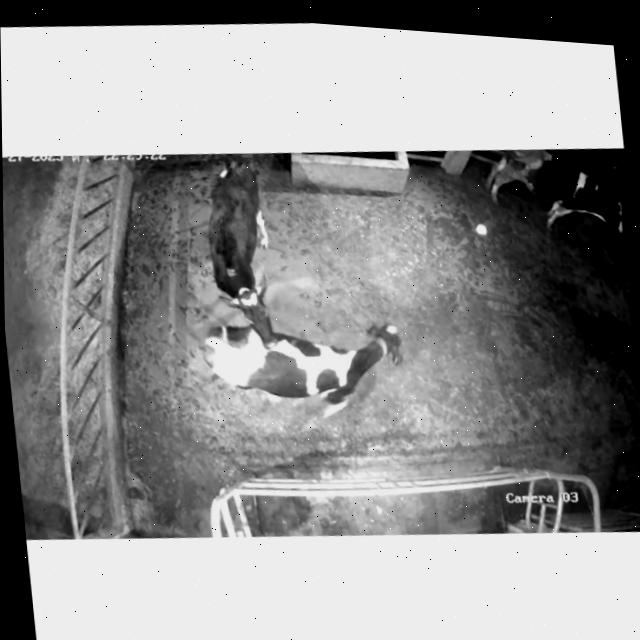propping: (203, 271, 300, 367)
